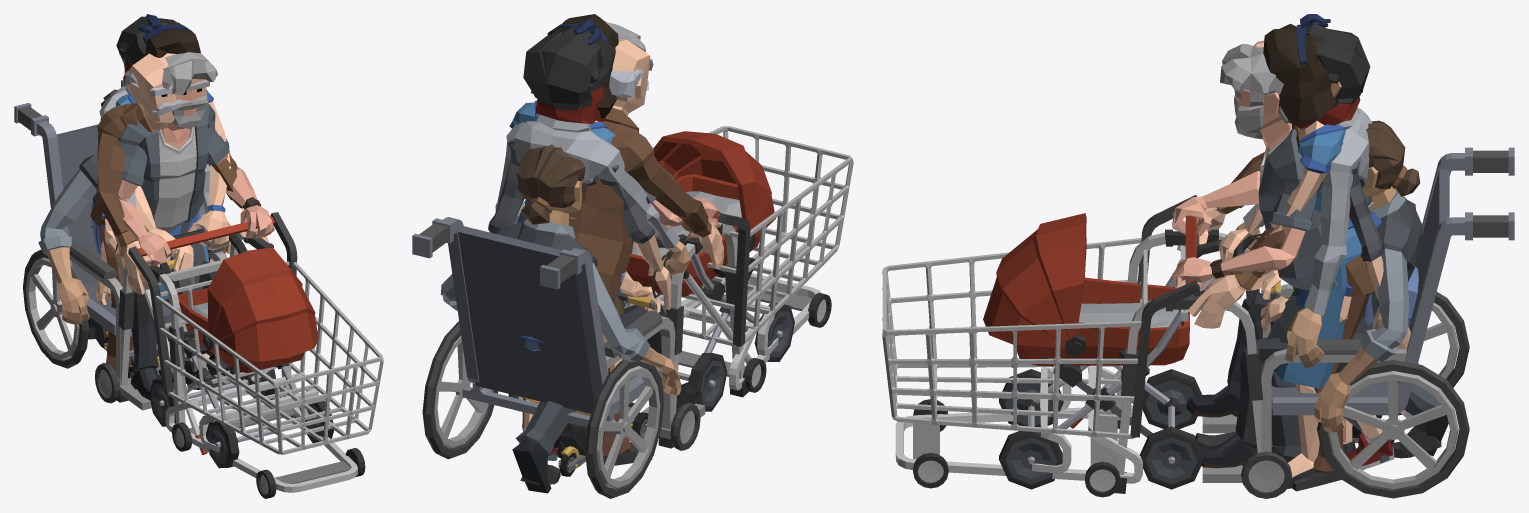
The model's file is human-characters-poses-2.glb.
3 renders of one model, left to right at view 1: azimuth 30°, elevation 25°; view 2: azimuth 150°, elevation 25°; view 3: azimuth 270°, elevation 25°, orthographic. The views are drawn at different scales.
Visible parts, largest first — view 1: Character_14, Character_16, Character_9, Character_12, Character_13, Character_15, Character_10, Character_11; view 2: Character_9, Character_14, Character_16, Character_12, Character_13, Character_15, Character_10, Character_11; view 3: Character_14, Character_9, Character_16, Character_12, Character_13, Character_15, Character_11, Character_10.
Part boxes in pixels (left/top/right/bottom): Character_14: left=88, top=52, right=383, bottom=498; Character_16: left=116, top=14, right=334, bottom=468; Character_9: left=14, top=79, right=246, bottom=410; Character_12: left=90, top=53, right=294, bottom=441; Character_13: left=99, top=16, right=230, bottom=454; Character_15: left=94, top=60, right=218, bottom=389; Character_10: left=102, top=213, right=193, bottom=382; Character_11: left=91, top=200, right=133, bottom=349; Character_9: left=412, top=144, right=705, bottom=498; Character_14: left=512, top=19, right=853, bottom=493; Character_16: left=509, top=14, right=794, bottom=458; Character_12: left=522, top=39, right=749, bottom=465; Character_13: left=495, top=26, right=751, bottom=455; Character_15: left=472, top=86, right=671, bottom=485; Character_10: left=547, top=217, right=660, bottom=476; Character_11: left=518, top=289, right=622, bottom=459; Character_14: left=882, top=44, right=1454, bottom=497; Character_9: left=1186, top=120, right=1514, bottom=498; Character_16: left=983, top=14, right=1381, bottom=489; Character_12: left=1111, top=40, right=1374, bottom=493; Character_13: left=1070, top=23, right=1382, bottom=438; Character_15: left=1195, top=88, right=1441, bottom=458; Character_11: left=1339, top=266, right=1418, bottom=469; Character_10: left=1260, top=196, right=1394, bottom=470.
Size of the model in its own units: 0.9537 by 1.86 by 2.39.
Materials: 1 (1 with a texture image).
